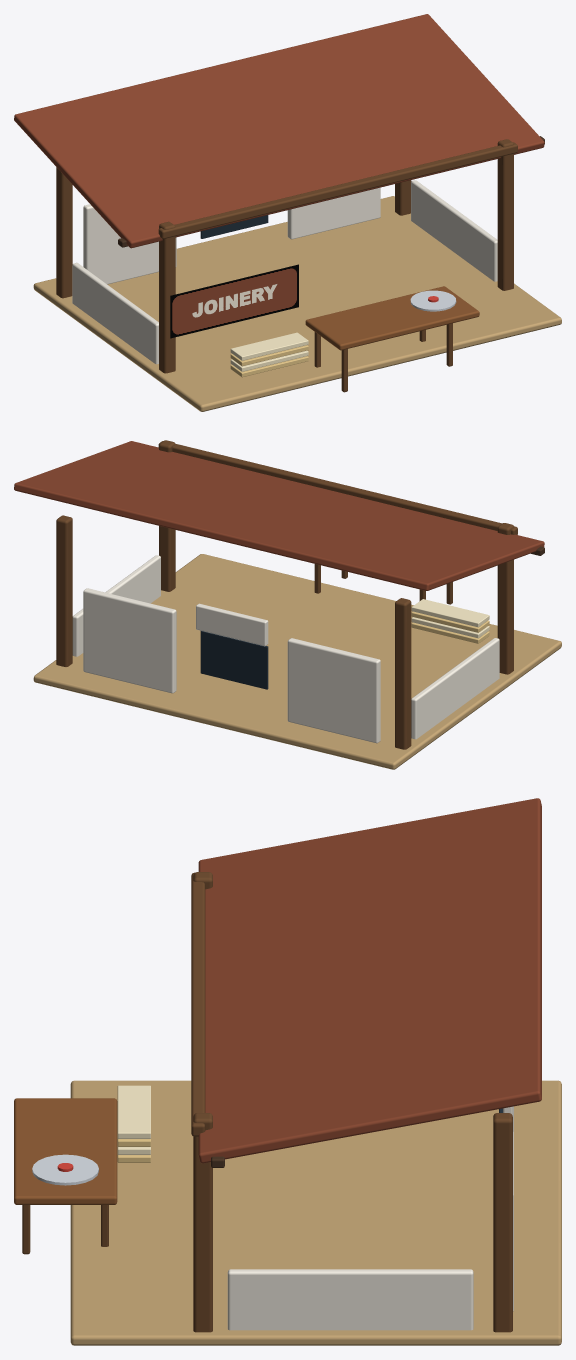
Rendered from joinery.glb.
3 views of the same model, one above another, from view 1: azimuth 30°, elevation 25°; view 2: azimuth 150°, elevation 25°; view 3: azimuth 270°, elevation 25° (orthographic). The views are drawn at different scales.
Bounding box in the file's own units: 7.25 × 3.07 × 5.57.
Materials: 12 (1 with a texture image).
